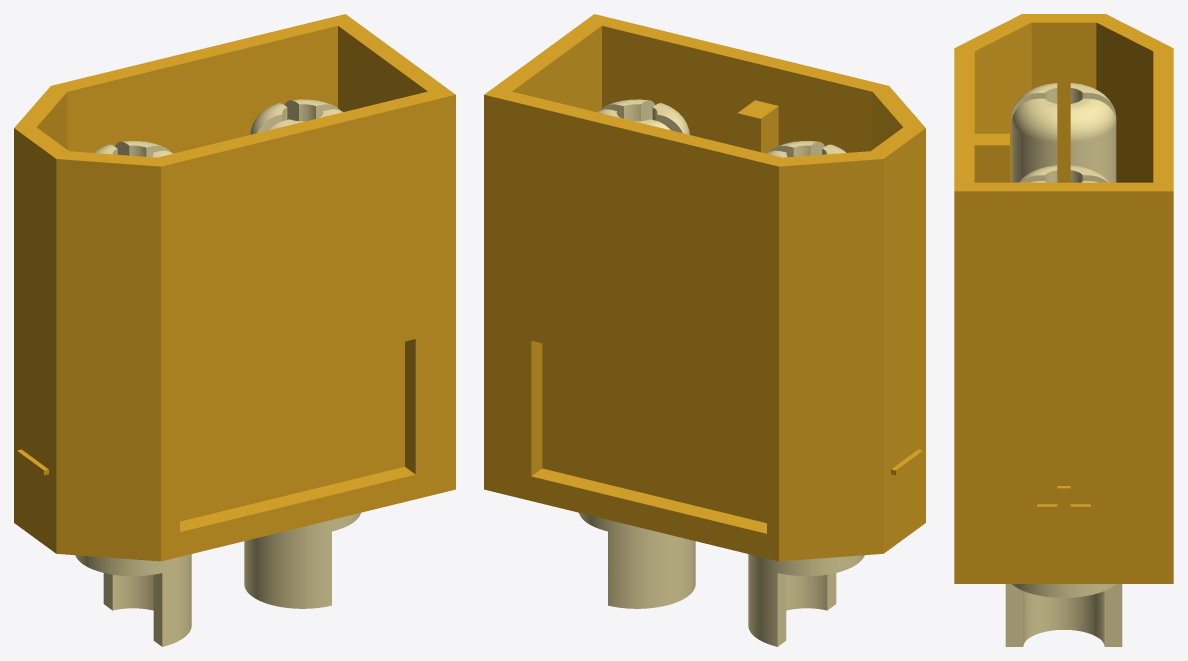
Rendered from amass_xt60_m_1x02_p7_2mm_vertical.glb.
3 views of the same model, side by side, from view 1: azimuth 30°, elevation 25°; view 2: azimuth 150°, elevation 25°; view 3: azimuth 270°, elevation 25° (orthographic).
Visible parts, largest first — view 1: conn_xt60m, pin_2, pin_1; view 2: conn_xt60m, pin_2, pin_1; view 3: conn_xt60m, pin_2.
Boxes of the visible parts, bbox=[...] form: conn_xt60m: bbox=[14, 14, 455, 561]; pin_2: bbox=[244, 513, 360, 608]; pin_1: bbox=[75, 554, 191, 646]; conn_xt60m: bbox=[484, 14, 925, 561]; pin_2: bbox=[579, 513, 695, 608]; pin_1: bbox=[748, 554, 864, 646]; conn_xt60m: bbox=[954, 14, 1173, 583]; pin_2: bbox=[1005, 584, 1122, 646].
Bounding box in the file's own units: 0.0159 × 0.0205 × 0.0081.
